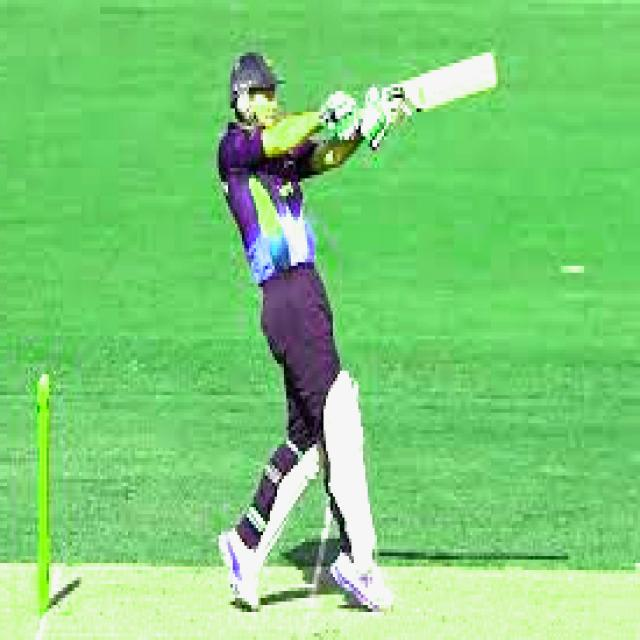toe: (487, 51, 497, 91)
